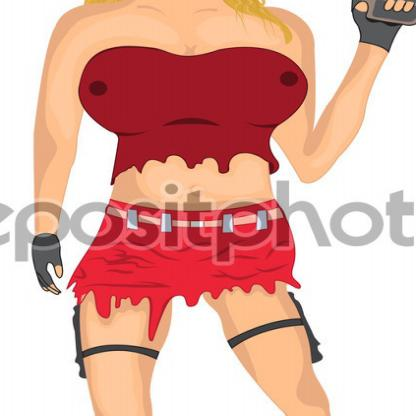gun: (349, 0, 415, 29)
